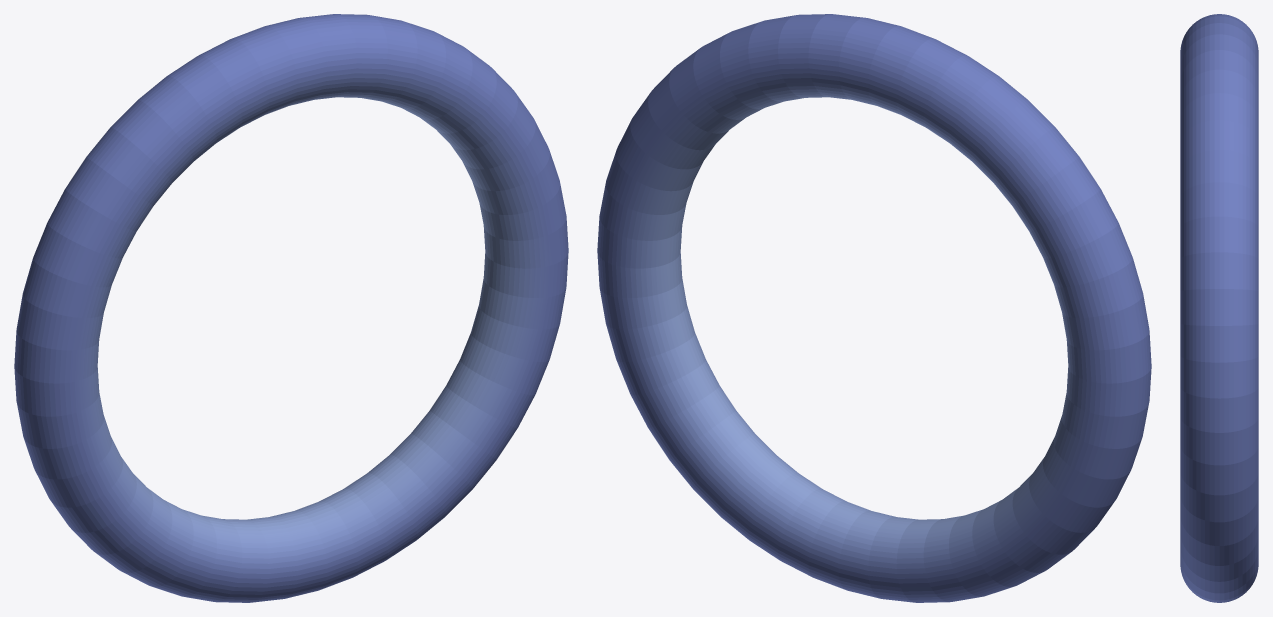
3 renders of one model, left to right at view 1: azimuth 30°, elevation 25°; view 2: azimuth 150°, elevation 25°; view 3: azimuth 270°, elevation 25°, orthographic. The views are drawn at different scales.
Visible parts, largest first — view 1: world; view 2: world; view 3: world.
Boxes of the visible parts, x1,y1,x2,y2 form: world: (14,14,568,602); world: (597,14,1151,602); world: (1180,14,1258,602).
Bounding box in the file's own units: 23.07 × 23.02 × 3.06.
